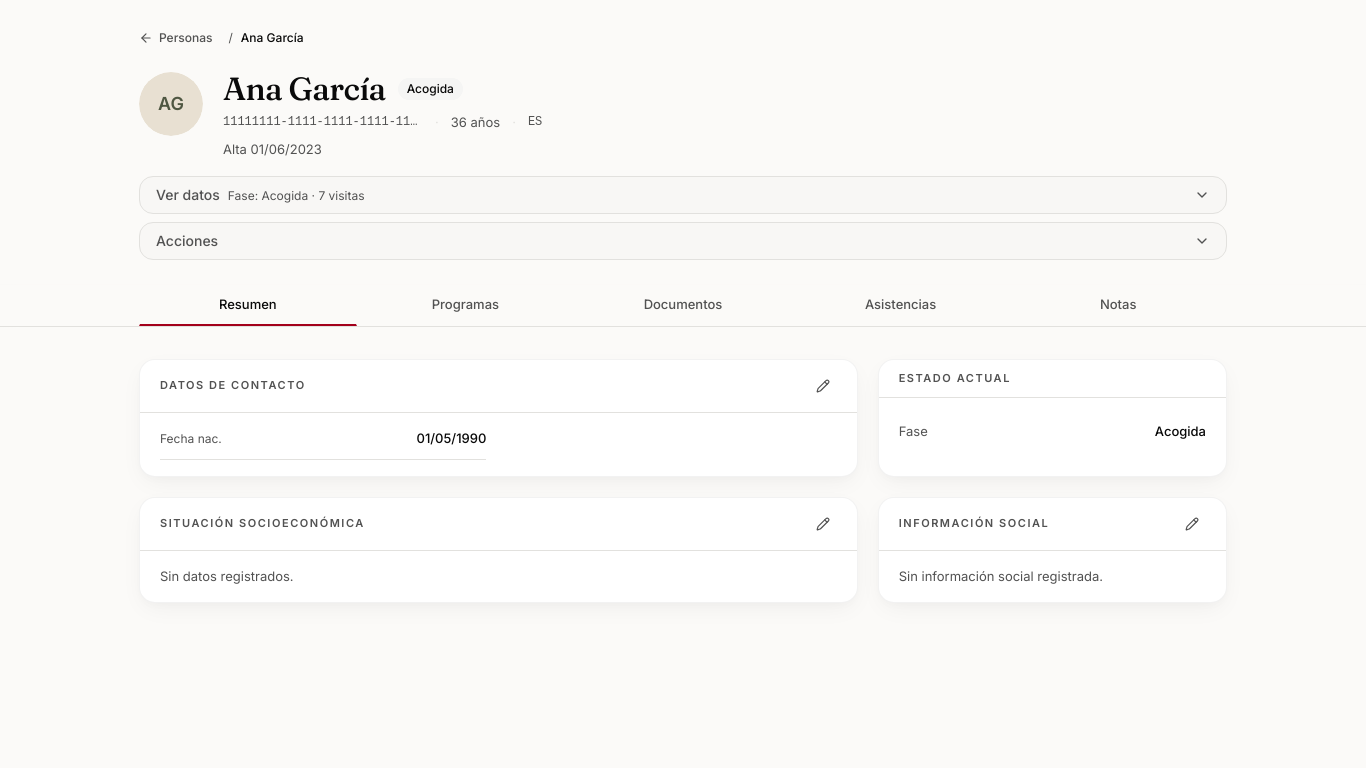
Scenario: PersonaDetalle — empty states (no fabricated data) › Documentos tells an admin it is restricted — never 'no documents'
Click the tab "Documentos".
click(683, 305)  # box [574,284,792,326]
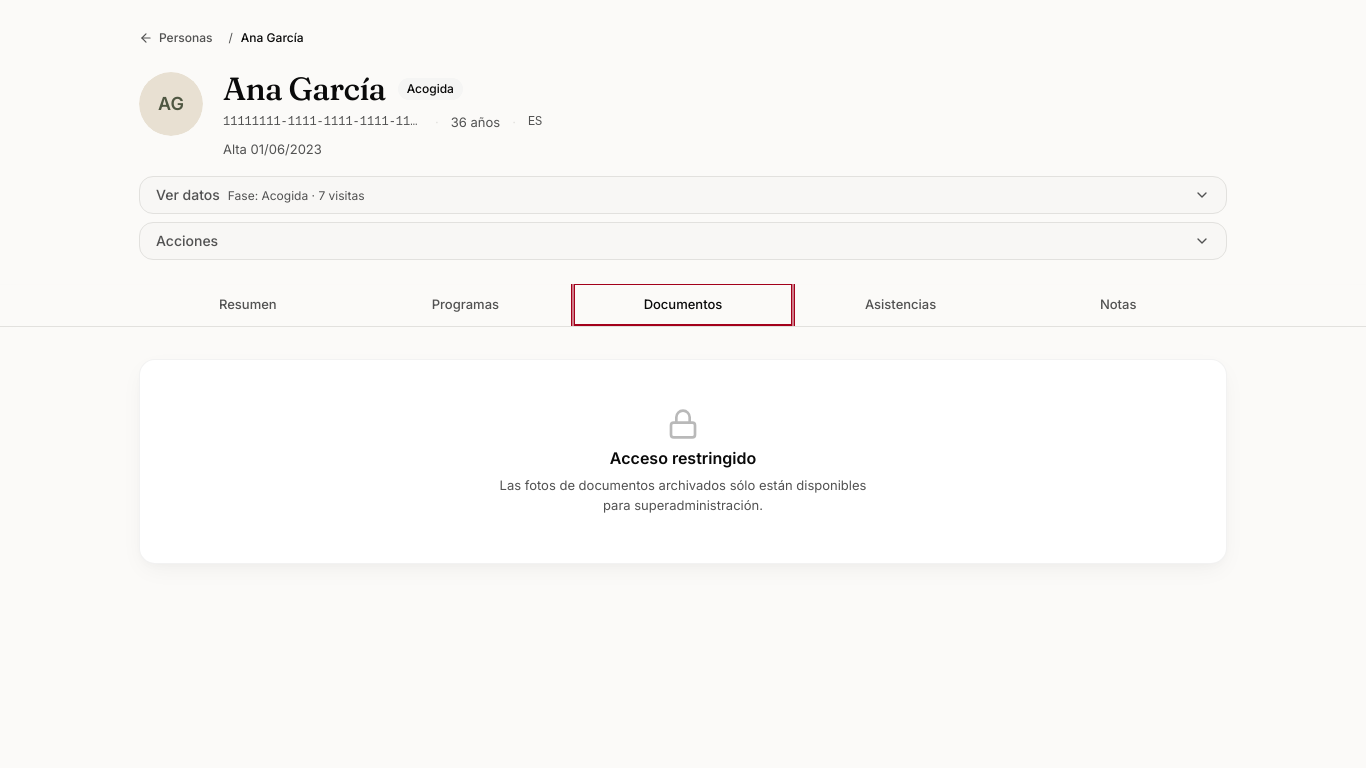
Expected: the text "Acceso restringido" is shown, [610,448,756,468]
